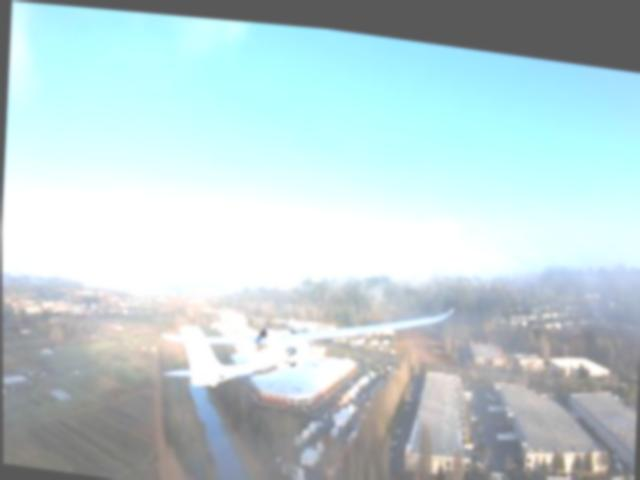uav: (149, 254, 461, 429)
